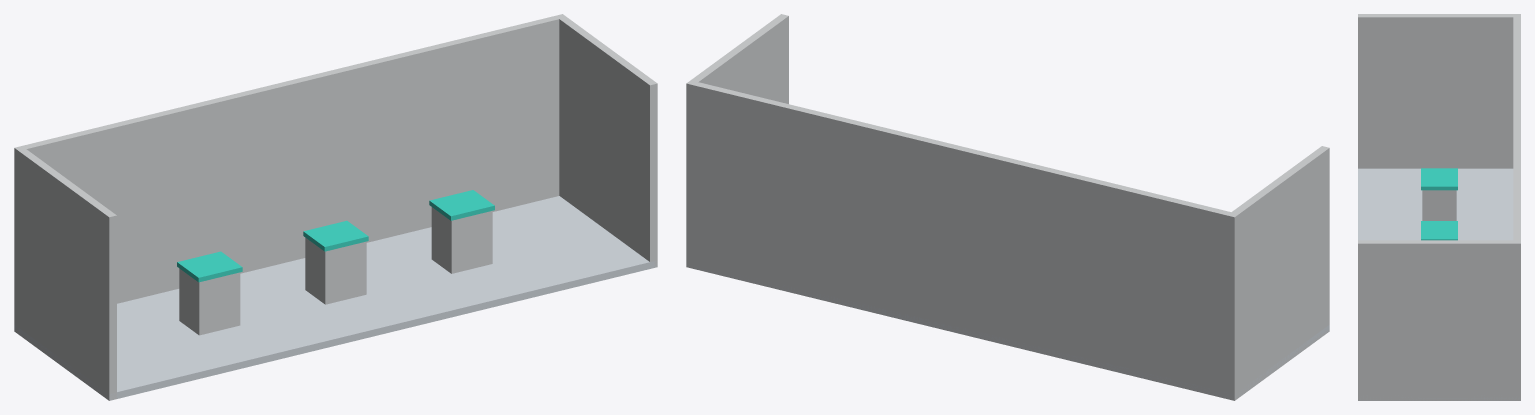
The picture shows the model from 3 angles, left to right: view 1: azimuth 30°, elevation 25°; view 2: azimuth 150°, elevation 25°; view 3: azimuth 270°, elevation 25°; orthographic projection. The views are drawn at different scales.
Visible parts, largest first — view 1: Exhibition Booth Concept; view 2: Exhibition Booth Concept; view 3: Exhibition Booth Concept.
Part boxes in pixels (x1=…): Exhibition Booth Concept: x1=14, y1=14, x2=657, y2=400; Exhibition Booth Concept: x1=686, y1=14, x2=1329, y2=400; Exhibition Booth Concept: x1=1358, y1=14, x2=1520, y2=400.
Bounding box in the file's own units: 10 × 3.2 × 3.
